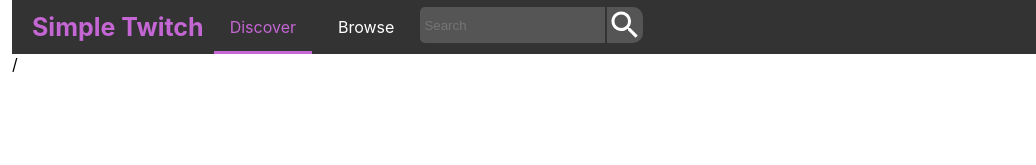
it: NavBarCont › searches while typing (debounced) and shows channels and categories
Type "min" into the field with placeholder "Search". click: (513, 25)
box: [420, 7, 605, 43]
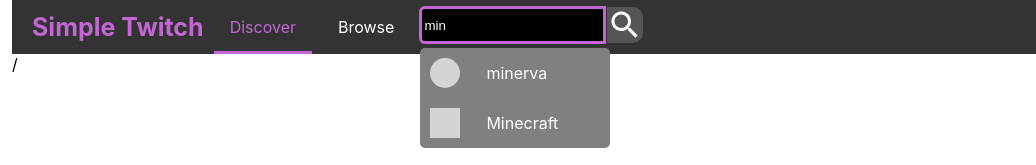
Result: the link "minerva" is shown at [486, 63, 547, 83]
Result: the link "Minecraft" is shown at [486, 113, 558, 133]
